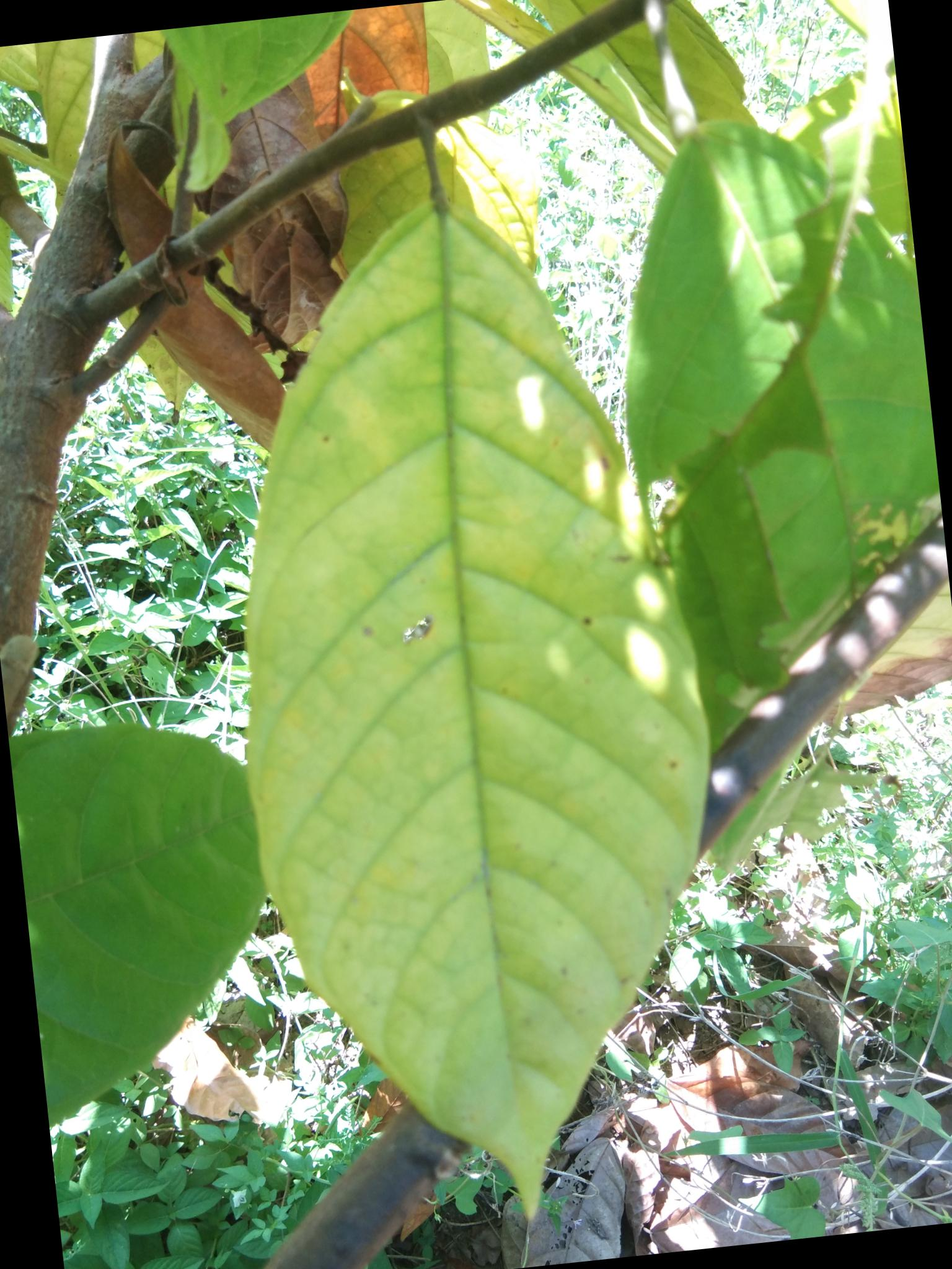Fosforo: (241, 194, 709, 1228)
